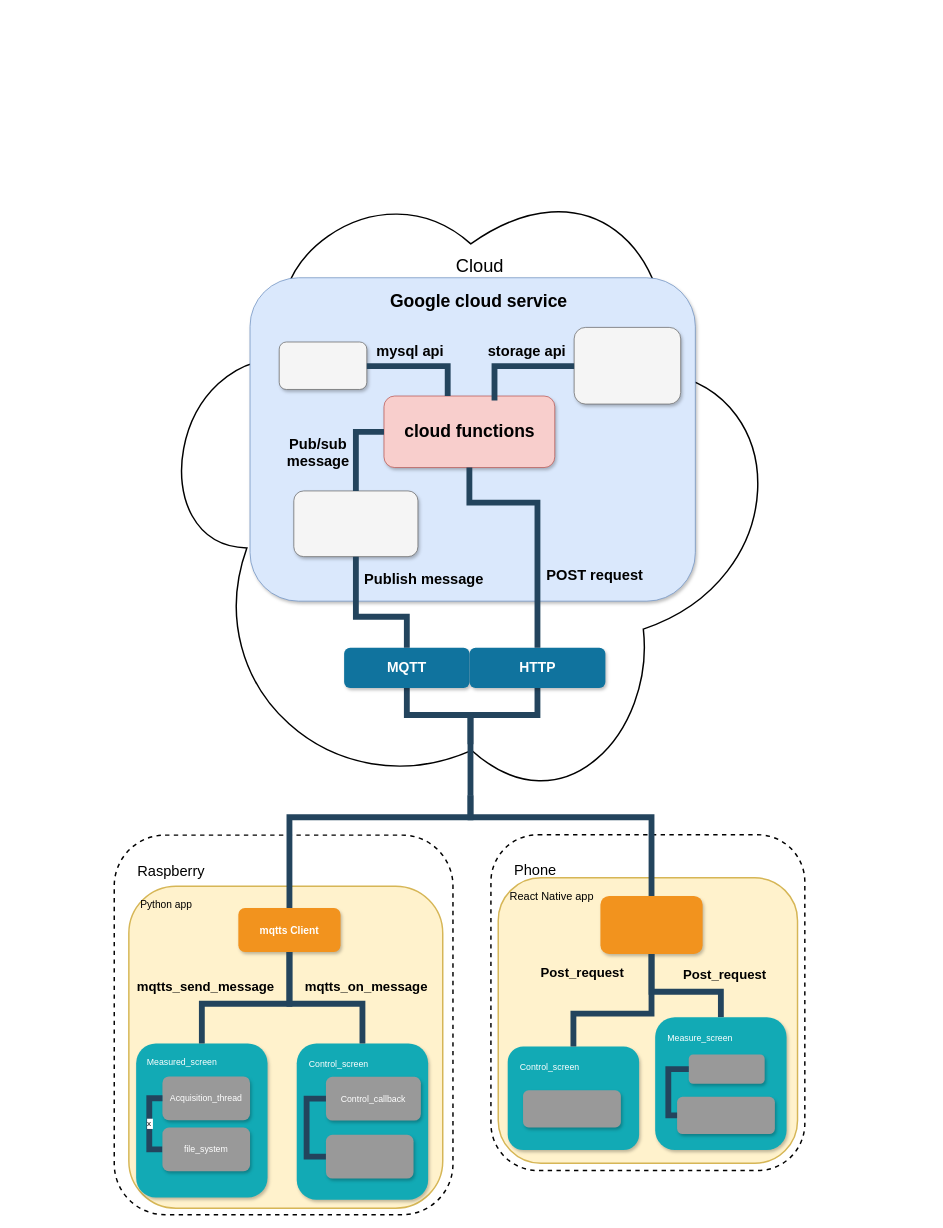
The diagram is 943 pixels wide and 1228 high, and some of its shapes have lost their labels. The shapes that lost their labels are listed below. From the top down, each one's centre as x and y in pixels, then its label:
the point at 323,366: SQL
the point at 627,366: Google Cloud Storage
the point at 356,524: IOT core
the point at 652,926: Fetch Client
the point at 727,1069: Measure_thread
the point at 572,1109: user_input_callbacks
the point at 726,1116: Graphics_view
the point at 370,1157: User_input
